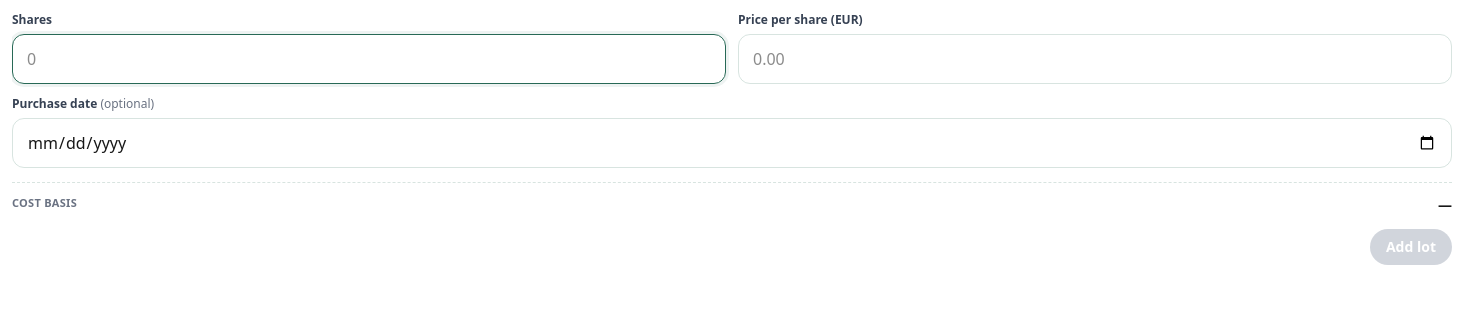
LotForm › rejects 4,123
The width and height of the screenshot is (1464, 318).
Step 1. Type "2" into the field labelled "Shares" → x=369, y=59, box [12, 34, 726, 84]
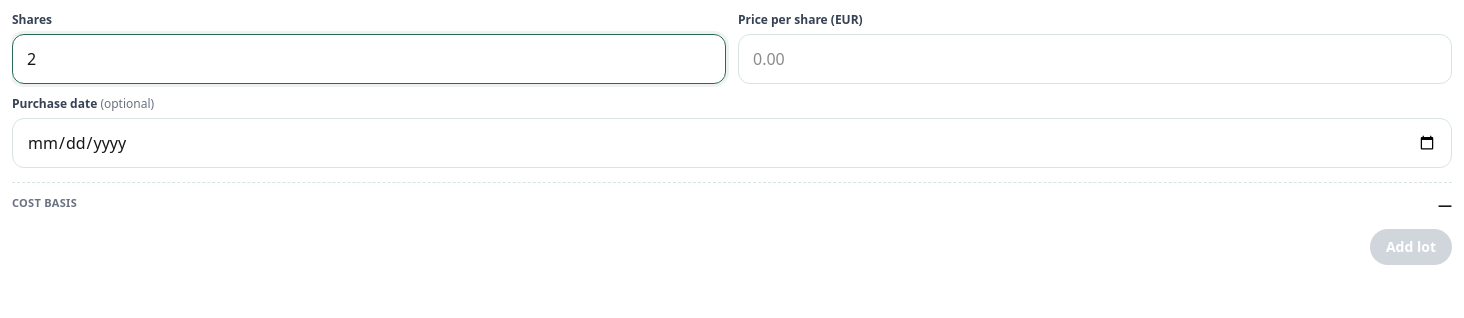
Step 2. Type "4,123" into the field labelled "Price per share (EUR)" → x=1095, y=59, box [738, 34, 1452, 84]
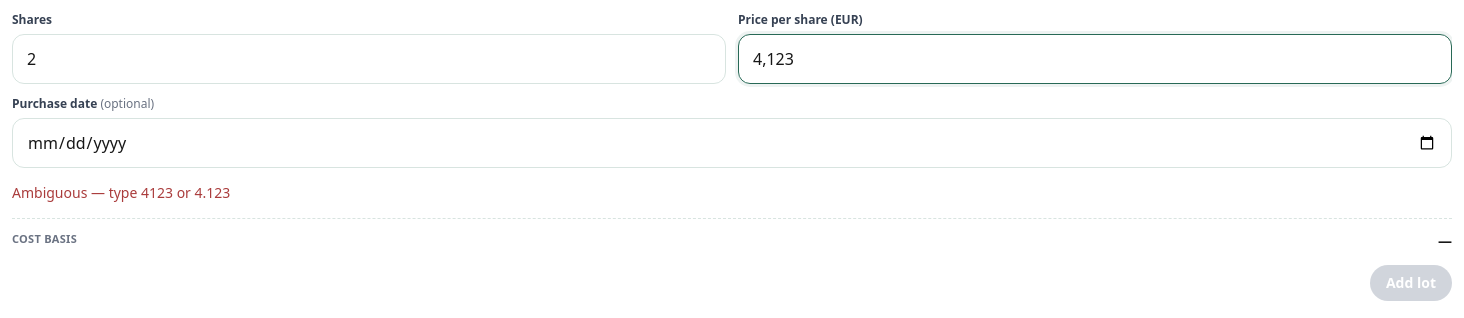
Expected: the button "Add lot" is disabled, [1370, 265, 1452, 301]
Expected: the text "Ambiguous — type 4123 or 4.123" is shown, [12, 183, 230, 202]
